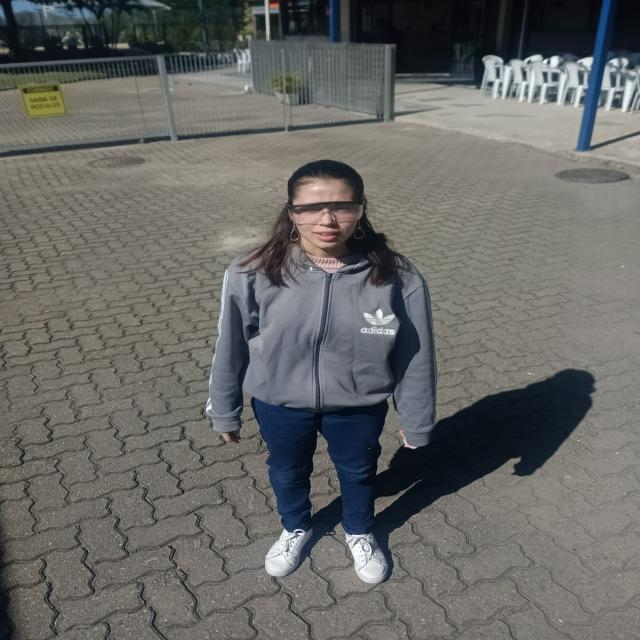oculos-epi: (285, 201, 363, 224)
